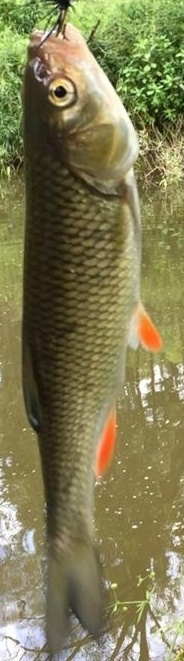Leuciscus cephalus: (20, 20, 164, 661)
